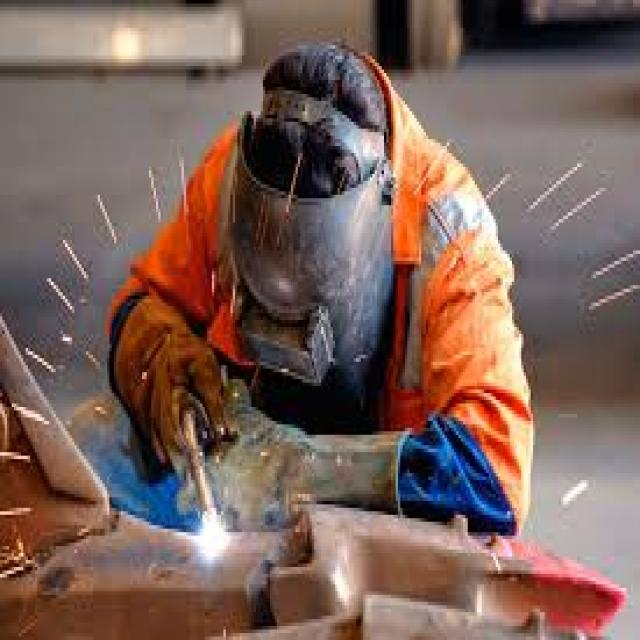welding: (197, 520, 231, 562)
